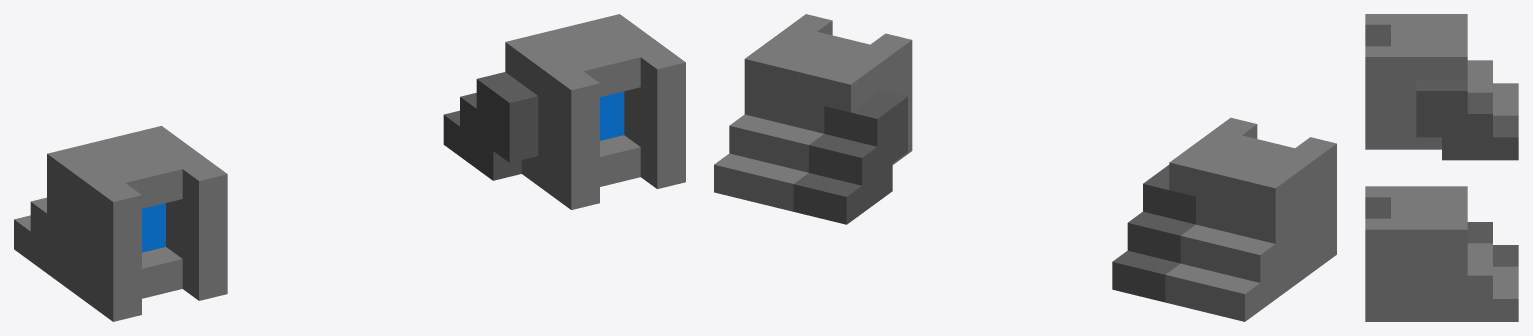
The model's file is Body-24-Warship_FrontLasers.obj.
The picture shows the model from 3 angles, left to right: view 1: azimuth 30°, elevation 25°; view 2: azimuth 150°, elevation 25°; view 3: azimuth 270°, elevation 25°; orthographic projection. The views are drawn at different scales.
Visible parts, largest first — view 1: Warship_FrontLasers; view 2: Warship_FrontLasers; view 3: Warship_FrontLasers.
Part boxes in pixels (x1=…): Warship_FrontLasers: x1=14, y1=14, x2=685, y2=321; Warship_FrontLasers: x1=714, y1=14, x2=1336, y2=321; Warship_FrontLasers: x1=1365, y1=14, x2=1518, y2=321.
Size of the model in its own units: 2 by 0.4 by 0.6.
Materials: 1 (1 with a texture image).
